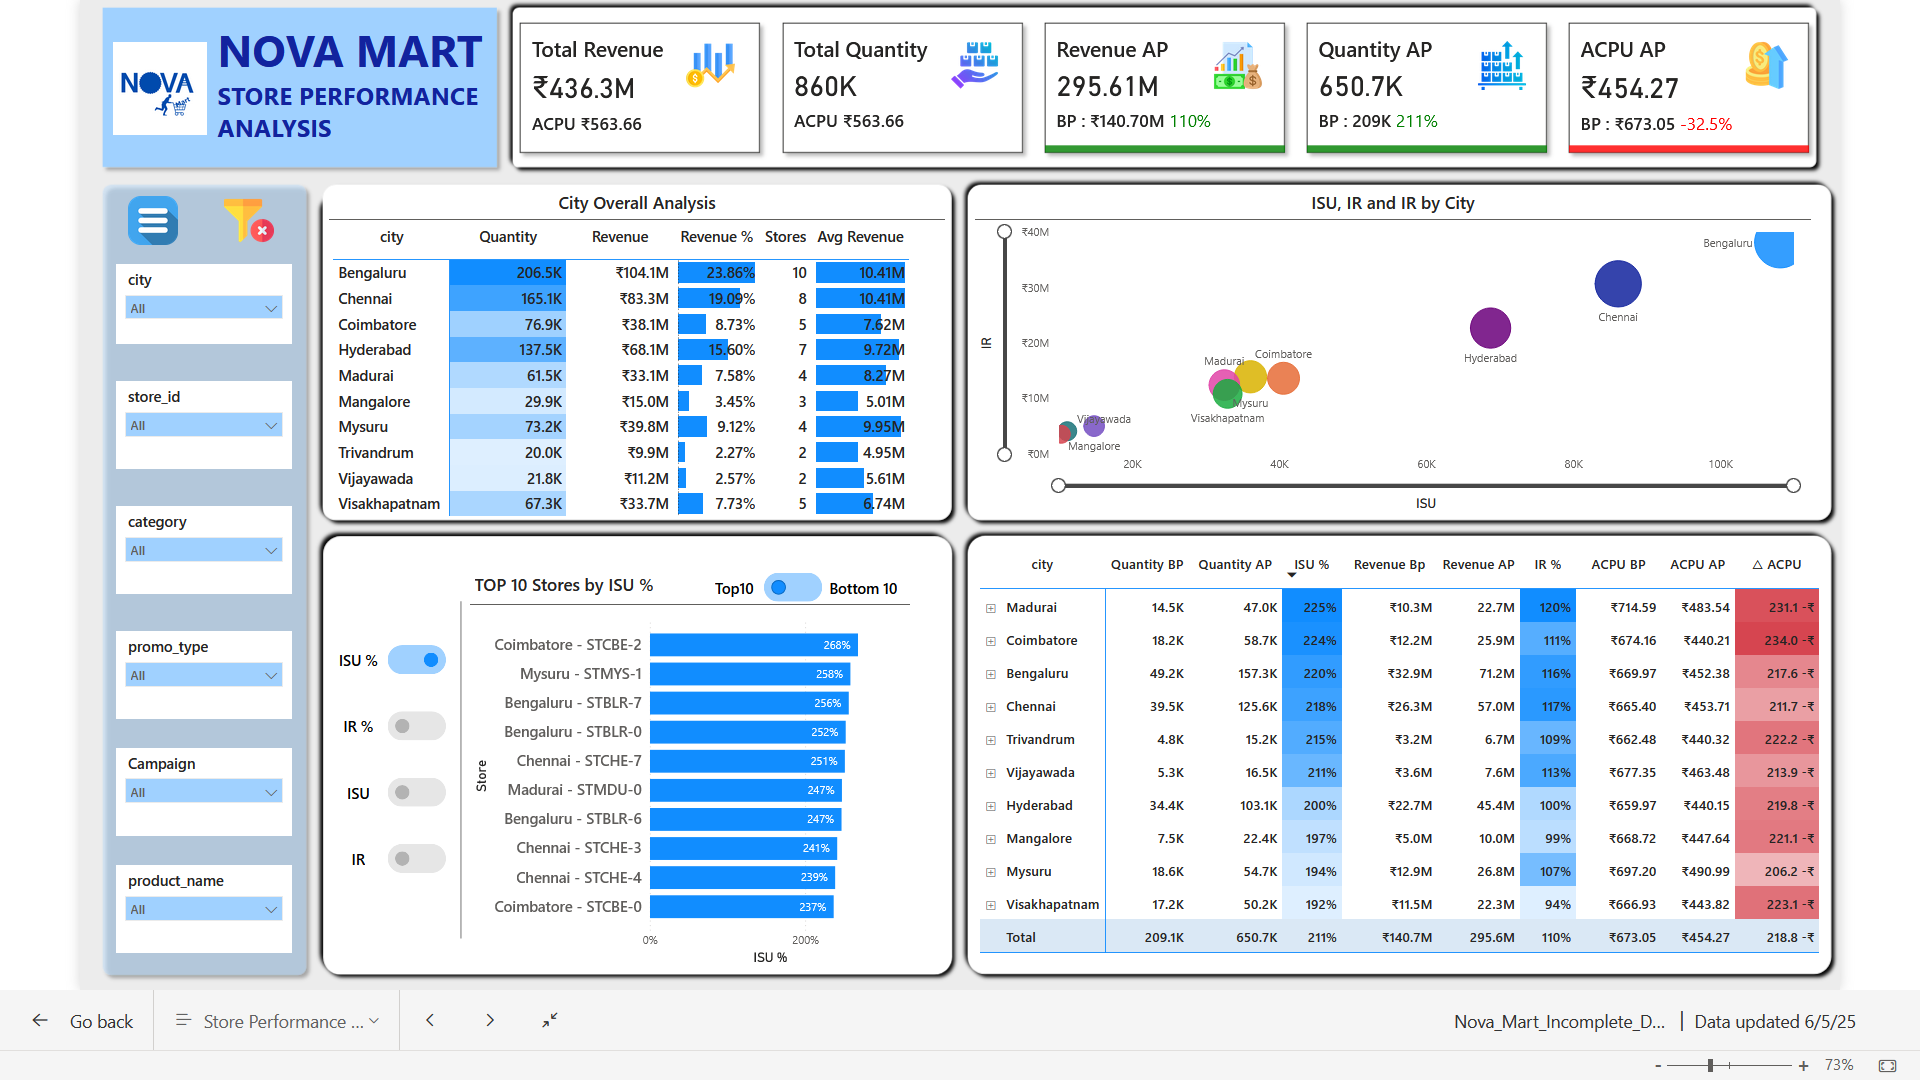

This screenshot's page, from the dashboard's own definition file:
{"tool":"powerbi","page":{"name":"Store Performance Analysis","canvas":[1920,1080],"ordinal":1},"visuals":[{"type":"cardVisual","fields":{"Data":["Measures (2).Total Revenue","Measures (2).Total Quantity","Measures (2).Revenue_After_Promo","Measures (2).Sold_QTY_After_Promo","Measures (2).Average Cost Per Unit After"]},"box":[464,8,1440,176],"z":0,"group":"g11"},{"type":"shape","title":"Border","box":[960,576,960,496],"z":0},{"type":"barChart","title":"TOP 10 Stores by ISU %","fields":{"Category":["dim_stores.city_store"],"Y":["Measures (2).ISU %"]},"box":[425.8,624.4,480,432],"z":0,"group":"g6"},{"type":"shape","box":[745.8,624.4,64,32],"z":0,"group":"g5"},{"type":"group","id":"g1","title":"Group 1","box":[272,704,128,32],"z":0,"group":"g10"},{"type":"shape","box":[336,704,64,32],"z":0,"group":"g1"},{"type":"group","id":"g2","title":"Group 1","box":[272,776,128,32],"z":0,"group":"g7"},{"type":"shape","box":[336,776,64,32],"z":0,"group":"g2"},{"type":"group","id":"g3","title":"Group 1","box":[272,848,128,32],"z":0,"group":"g9"},{"type":"shape","box":[336,848,64,32],"z":0,"group":"g3"},{"type":"group","id":"g4","title":"Group 1","box":[272,920,128,32],"z":0,"group":"g8"},{"type":"shape","box":[336,920,64,32],"z":0,"group":"g4"},{"type":"image","box":[1808,40,64,64],"z":1000,"group":"g11"},{"type":"shape","title":"Border","box":[960,192,960,384],"z":1000},{"type":"group","id":"g5","title":"TOP 10 Buttons","box":[681.8,624.4,216,32],"z":1000,"group":"g6"},{"type":"shape","box":[753.8,632.4,16,16],"z":1000,"group":"g5"},{"type":"shape","box":[272,704,64,32],"z":1000,"group":"g1"},{"type":"shape","box":[376,712,16,16],"z":1000,"group":"g10"},{"type":"shape","box":[272,776,64,32],"z":1000,"group":"g2"},{"type":"shape","box":[344,784,16,16],"z":1000,"group":"g7"},{"type":"shape","box":[272,848,64,32],"z":1000,"group":"g3"},{"type":"shape","box":[344,856,16,16],"z":1000,"group":"g9"},{"type":"shape","box":[272,920,64,32],"z":1000,"group":"g4"},{"type":"shape","box":[344,928,16,16],"z":1000,"group":"g8"},{"type":"image","box":[1520,40,64,64],"z":2000,"group":"g11"},{"type":"shape","title":"Border","box":[256,208,704,368],"z":2000},{"type":"shape","box":[681.8,624.4,64,32],"z":2000,"group":"g5"},{"type":"image","box":[944,40,64,64],"z":3000,"group":"g11"},{"type":"shape","title":"Border","box":[256,576,704,496],"z":3000},{"type":"shape","box":[809.8,624.4,88,32],"z":3000,"group":"g5"},{"type":"image","box":[656,40,64,64],"z":4000,"group":"g11"},{"type":"shape","title":"Border","box":[256,576,704,496],"z":4000},{"type":"image","box":[1232,40,64,64],"z":5000,"group":"g11"},{"type":"group","id":"g6","title":"Top 10 ISU %","box":[425.8,624.4,480,432],"z":6000},{"type":"shape","title":"LINE","box":[400,656,32,368],"z":13000},{"type":"group","id":"g7","title":"IR % BUtton","box":[272,776,128,32],"z":16000},{"type":"group","id":"g8","title":"IR button","box":[272,920,128,32],"z":17000},{"type":"group","id":"g9","title":"ISU button","box":[272,848,128,32],"z":19000},{"type":"group","id":"g10","title":"ISU % ON","box":[272,704,128,32],"z":21000},{"type":"shape","title":"Border","box":[256,192,704,384],"z":22000},{"type":"shape","title":"Border","box":[960,192,960,384],"z":23000},{"type":"pivotTable","title":"City Overall Analysis","fields":{"Rows":["dim_stores.city"],"Values":["Measures (2).Total Quantity","Measures (2).Total Revenue","Divide(Measures (2).Total Revenue, ScopedEval(Measures (2).Total Revenue, []))","Count(dim_stores.store_id)","Measures (2).Revenue by stores"]},"box":[272,208,672,368],"z":24000},{"type":"shape","title":"Border","box":[960,576,960,496],"z":25000},{"type":"pivotTable","fields":{"Rows":["dim_stores.city","dim_stores.store_id"],"Values":["Measures (2).Sold_QTY_Before_Promo","Measures (2).Sold_QTY_After_Promo","Measures (2).ISU %","Measures (2).Revenue_Before_Promo","Measures (2).Revenue_After_Promo","Measures (2).IR %","Measures (2).Average Cost Per Unit Before","Measures (2).Average Cost Per Unit After","Measures (2).△ ACPU"]},"box":[976,592,928,464],"z":26000},{"type":"scatterChart","title":"ISU, IR and IR by City","fields":{"X":["Measures (2).ISU"],"Y":["Measures (2).IR"],"Category":["dim_stores.city","dim_stores.store_id"],"Series":["dim_stores.city"],"Size":["Measures (2).IR"]},"box":[976,208,912,352],"z":27000},{"type":"shape","title":"Border","box":[16,192,240,880],"z":28000},{"type":"slicer","fields":{"Values":["dim_stores.store_id"]},"box":[40,416,192,96],"z":29000},{"type":"slicer","fields":{"Values":["dim_stores.city"]},"box":[40,288,192,88],"z":30000},{"type":"slicer","fields":{"Values":["dim_products.category"]},"box":[40,552,192,96],"z":31000},{"type":"slicer","fields":{"Values":["fact_events.promo_type"]},"box":[40,688,192,96],"z":32000},{"type":"slicer","fields":{"Values":["dim_campaigns.campaign_name"]},"box":[40,816,192,96],"z":33000},{"type":"slicer","fields":{"Values":["dim_products.product_name"]},"box":[40,944,192,96],"z":34000},{"type":"shape","box":[16,0,448,192],"z":35000},{"type":"image","box":[48,208,64,64],"z":36000},{"type":"shape","title":"Border","box":[464,0,1440,192],"z":37000},{"type":"image","box":[32,16,112,160],"z":38000},{"type":"textbox","box":[144,16,336,96],"z":39000},{"type":"textbox","box":[144,80,320,96],"z":40000},{"type":"image","box":[144,208,80,64],"z":41000},{"type":"shape","title":"Border","box":[464,0,1440,192],"z":42000},{"type":"group","id":"g11","title":"Group 1","box":[464,8,1440,176],"z":43000}]}

Visuals, with their boxes on the page's 1920x1080 design canvas (x1, y1, x2, y2). These are canvas units, not pixel positions in the 1920x1080 screenshot, which may show the page scaled, cropped or inside an application window:
cardVisual - Measures (2).Total Revenue x Measures (2).Total Quantity: bbox=(464, 8, 1904, 184)
"Border" shape: bbox=(960, 576, 1920, 1072)
"TOP 10 Stores by ISU %" barChart: bbox=(426, 624, 906, 1056)
shape: bbox=(746, 624, 810, 656)
"Group 1" group: bbox=(272, 704, 400, 736)
shape: bbox=(336, 704, 400, 736)
"Group 1" group: bbox=(272, 776, 400, 808)
shape: bbox=(336, 776, 400, 808)
"Group 1" group: bbox=(272, 848, 400, 880)
shape: bbox=(336, 848, 400, 880)
"Group 1" group: bbox=(272, 920, 400, 952)
shape: bbox=(336, 920, 400, 952)
image: bbox=(1808, 40, 1872, 104)
"Border" shape: bbox=(960, 192, 1920, 576)
"TOP 10 Buttons" group: bbox=(682, 624, 898, 656)
shape: bbox=(754, 632, 770, 648)
shape: bbox=(272, 704, 336, 736)
shape: bbox=(376, 712, 392, 728)
shape: bbox=(272, 776, 336, 808)
shape: bbox=(344, 784, 360, 800)
shape: bbox=(272, 848, 336, 880)
shape: bbox=(344, 856, 360, 872)
shape: bbox=(272, 920, 336, 952)
shape: bbox=(344, 928, 360, 944)
image: bbox=(1520, 40, 1584, 104)
"Border" shape: bbox=(256, 208, 960, 576)
shape: bbox=(682, 624, 746, 656)
image: bbox=(944, 40, 1008, 104)
"Border" shape: bbox=(256, 576, 960, 1072)
shape: bbox=(810, 624, 898, 656)
image: bbox=(656, 40, 720, 104)
"Border" shape: bbox=(256, 576, 960, 1072)
image: bbox=(1232, 40, 1296, 104)
"Top 10 ISU %" group: bbox=(426, 624, 906, 1056)
"LINE" shape: bbox=(400, 656, 432, 1024)
"IR % BUtton" group: bbox=(272, 776, 400, 808)
"IR button" group: bbox=(272, 920, 400, 952)
"ISU button" group: bbox=(272, 848, 400, 880)
"ISU % ON" group: bbox=(272, 704, 400, 736)
"Border" shape: bbox=(256, 192, 960, 576)
"Border" shape: bbox=(960, 192, 1920, 576)
"City Overall Analysis" pivotTable: bbox=(272, 208, 944, 576)
"Border" shape: bbox=(960, 576, 1920, 1072)
pivotTable - dim_stores.city x dim_stores.store_id: bbox=(976, 592, 1904, 1056)
"ISU, IR and IR by City" scatterChart: bbox=(976, 208, 1888, 560)
"Border" shape: bbox=(16, 192, 256, 1072)
slicer - dim_stores.store_id: bbox=(40, 416, 232, 512)
slicer - dim_stores.city: bbox=(40, 288, 232, 376)
slicer - dim_products.category: bbox=(40, 552, 232, 648)
slicer - fact_events.promo_type: bbox=(40, 688, 232, 784)
slicer - dim_campaigns.campaign_name: bbox=(40, 816, 232, 912)
slicer - dim_products.product_name: bbox=(40, 944, 232, 1040)
shape: bbox=(16, 0, 464, 192)
image: bbox=(48, 208, 112, 272)
"Border" shape: bbox=(464, 0, 1904, 192)
image: bbox=(32, 16, 144, 176)
textbox: bbox=(144, 16, 480, 112)
textbox: bbox=(144, 80, 464, 176)
image: bbox=(144, 208, 224, 272)
"Border" shape: bbox=(464, 0, 1904, 192)
"Group 1" group: bbox=(464, 8, 1904, 184)
